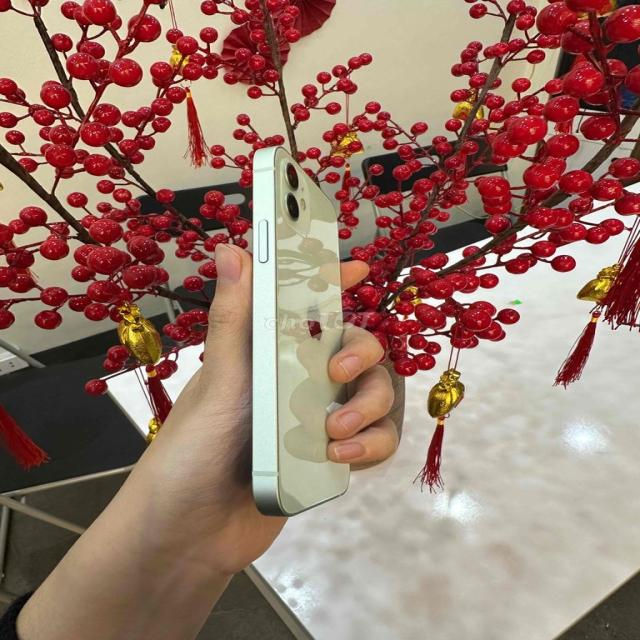gen_12_13: (242, 136, 354, 520)
